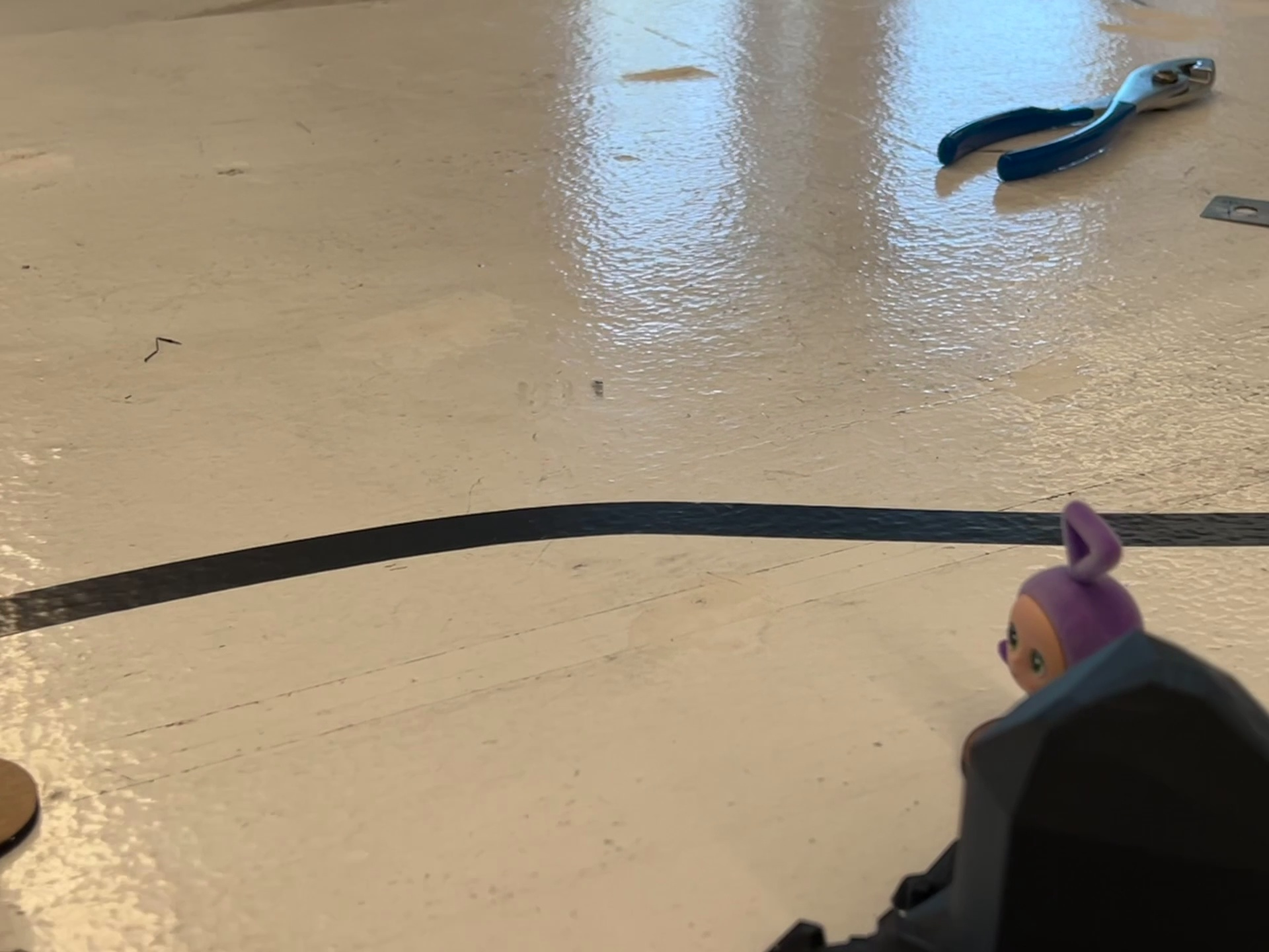teletubby: (997, 500, 1143, 695)
